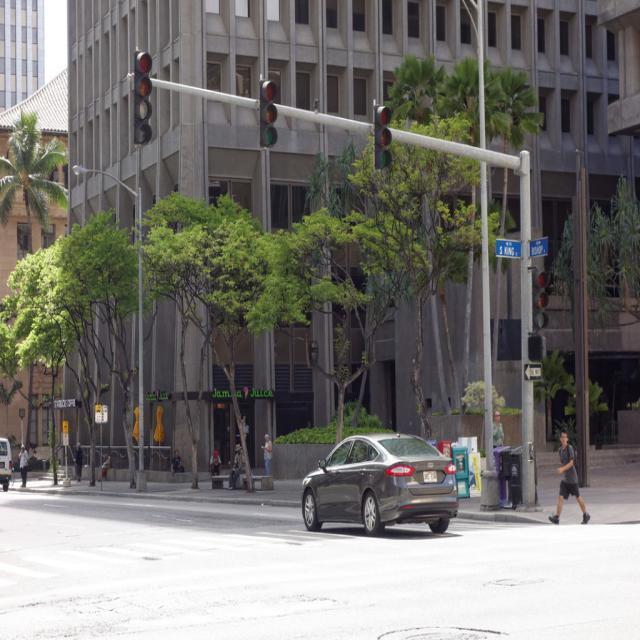traffic light: (133, 49, 154, 146), (369, 97, 396, 172), (256, 75, 280, 149), (534, 269, 553, 332)
